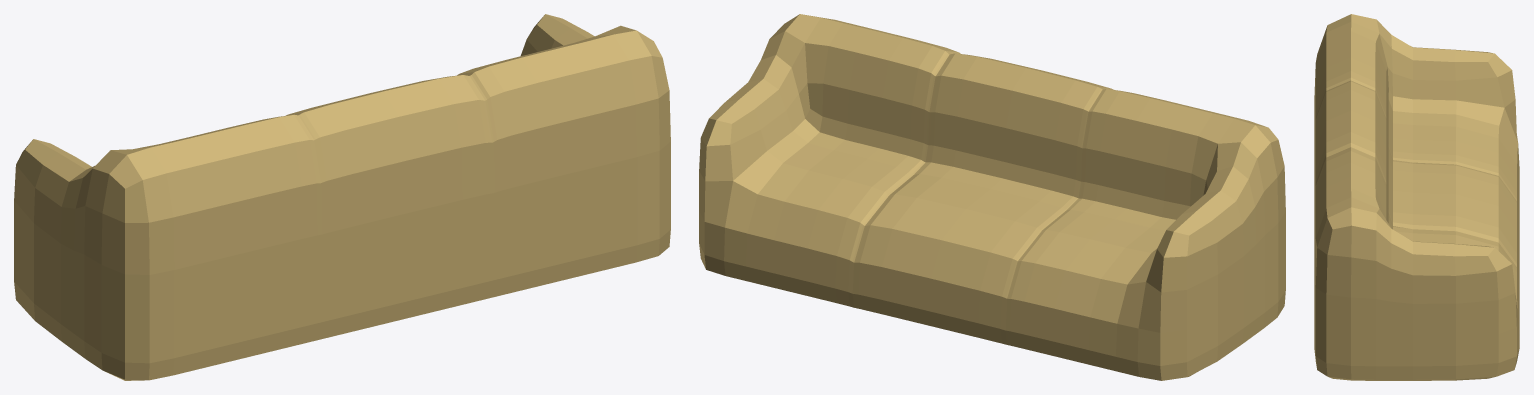
Rendered from Sofa Panjang.fbx.
The picture shows the model from 3 angles, left to right: view 1: azimuth 30°, elevation 25°; view 2: azimuth 150°, elevation 25°; view 3: azimuth 270°, elevation 25°; orthographic projection. The views are drawn at different scales.
Visible parts, largest first — view 1: Sofa 1; view 2: Sofa 1; view 3: Sofa 1.
Part boxes in pixels (x1,y1,x2,y2): Sofa 1: (14, 14, 670, 380); Sofa 1: (699, 14, 1285, 380); Sofa 1: (1314, 14, 1519, 380).
Size of the model in its own units: 275 by 102 by 112.
